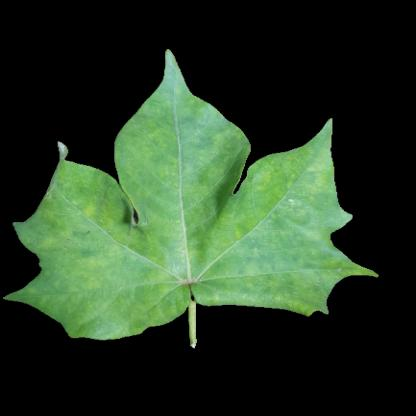curl_stage1: (143, 215, 240, 300), (52, 208, 128, 305), (228, 196, 303, 262), (247, 265, 324, 311), (202, 120, 247, 194), (152, 126, 199, 196), (262, 157, 339, 198), (58, 169, 123, 212), (155, 89, 207, 135), (81, 309, 150, 338)
